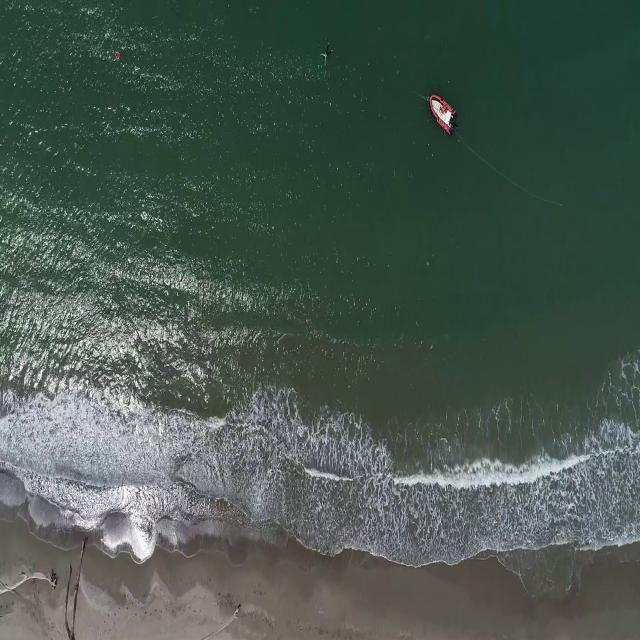boat: (429, 91, 456, 137)
life_buoy: (113, 51, 121, 63)
person: (321, 44, 334, 69)
wood: (176, 602, 243, 640), (66, 536, 87, 637), (0, 570, 62, 594)
